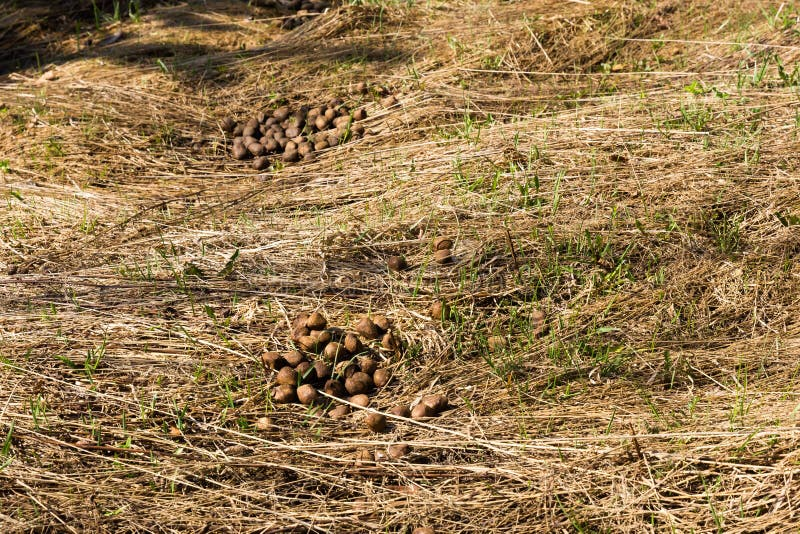Elk: (269, 300, 409, 434), (211, 99, 312, 157)
